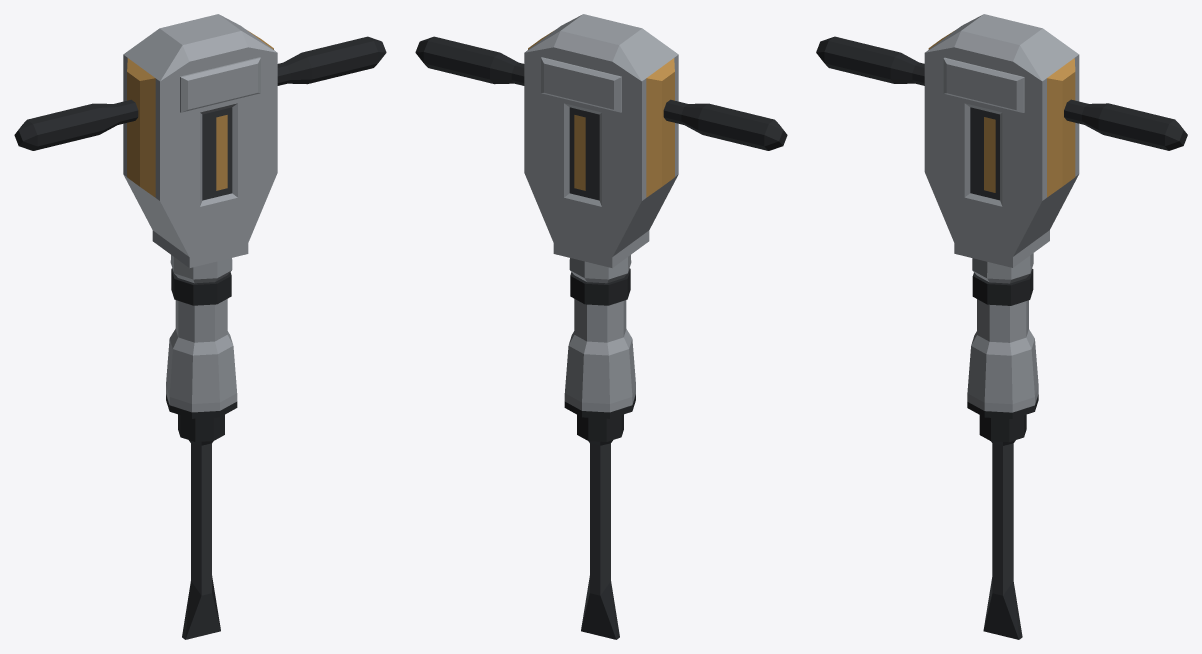
Rendered from SM_Tool_Concrete_Breaker_Jackhammer_01.fbx.
The picture shows the model from 3 angles, left to right: view 1: azimuth 30°, elevation 25°; view 2: azimuth 150°, elevation 25°; view 3: azimuth 330°, elevation 25°; orthographic projection.
Visible parts, largest first — view 1: SM_Tool_Concrete_Breaker_Jackhammer_01, SM_Tool_Concrete_Breaker_Jackhammer_01_Bit; view 2: SM_Tool_Concrete_Breaker_Jackhammer_01, SM_Tool_Concrete_Breaker_Jackhammer_01_Bit; view 3: SM_Tool_Concrete_Breaker_Jackhammer_01, SM_Tool_Concrete_Breaker_Jackhammer_01_Bit.
Part boxes in pixels (x1,y1,x2,y2): SM_Tool_Concrete_Breaker_Jackhammer_01: (14, 14, 386, 441); SM_Tool_Concrete_Breaker_Jackhammer_01_Bit: (182, 440, 220, 639); SM_Tool_Concrete_Breaker_Jackhammer_01: (415, 14, 787, 441); SM_Tool_Concrete_Breaker_Jackhammer_01_Bit: (581, 440, 619, 639); SM_Tool_Concrete_Breaker_Jackhammer_01: (816, 14, 1187, 442); SM_Tool_Concrete_Breaker_Jackhammer_01_Bit: (983, 440, 1022, 639).
Bounding box in the file's own units: 72.75 × 116 × 14.81.
